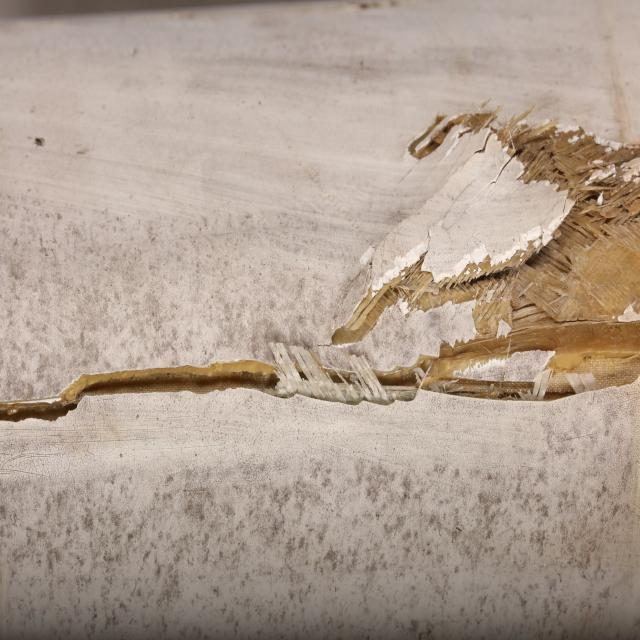Crack: (333, 95, 633, 421), (6, 349, 282, 455)
EROSION: (29, 457, 629, 620)
